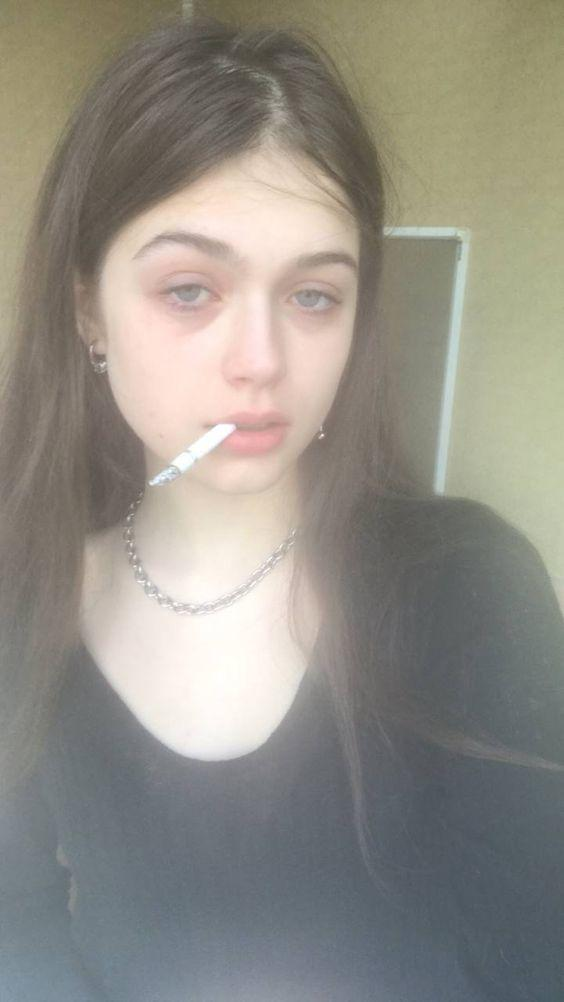cigarette: (147, 423, 237, 486)
